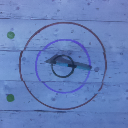Axe Tip: (44, 61, 55, 64)
